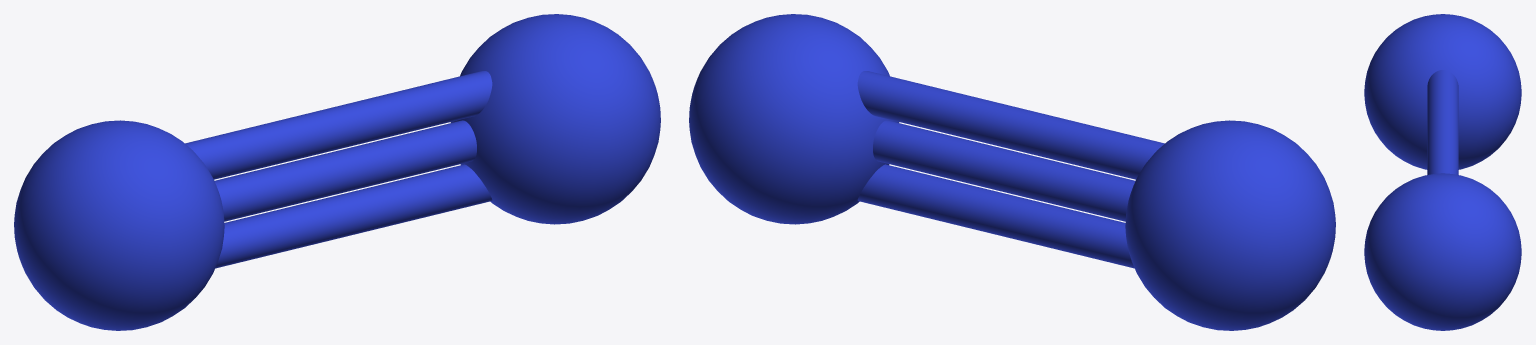
Rendered from Nitrogen.glb.
3 renders of one model, left to right at view 1: azimuth 30°, elevation 25°; view 2: azimuth 150°, elevation 25°; view 3: azimuth 270°, elevation 25°, orthographic. The views are drawn at different scales.
Bounding box in the file's own units: 1.58 × 0.465 × 0.465.
